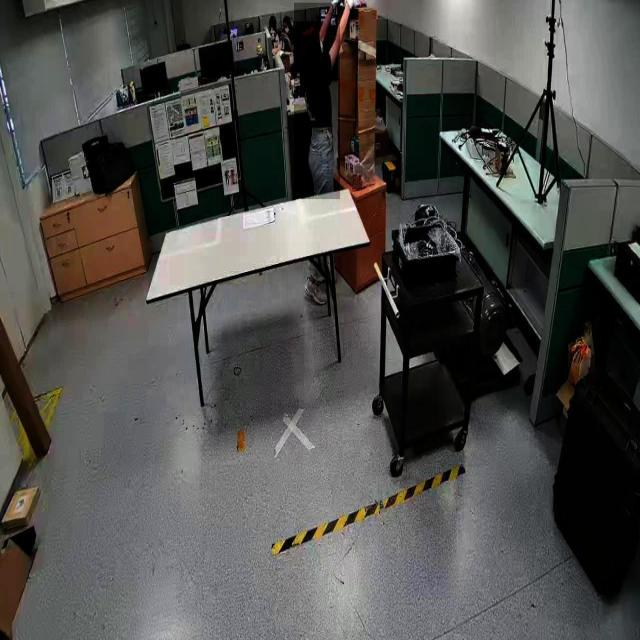head_nohelmet: (294, 21, 318, 43)
person: (294, 3, 340, 200)
shoes: (304, 275, 330, 304)
